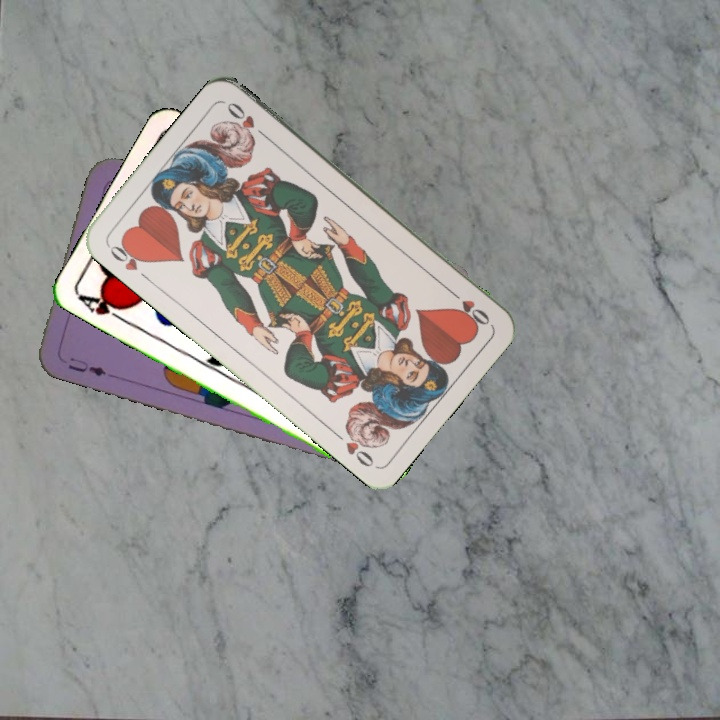EU: (64, 353, 109, 379)
HA: (74, 289, 130, 326)
HO: (103, 236, 153, 284), (444, 285, 493, 328)
